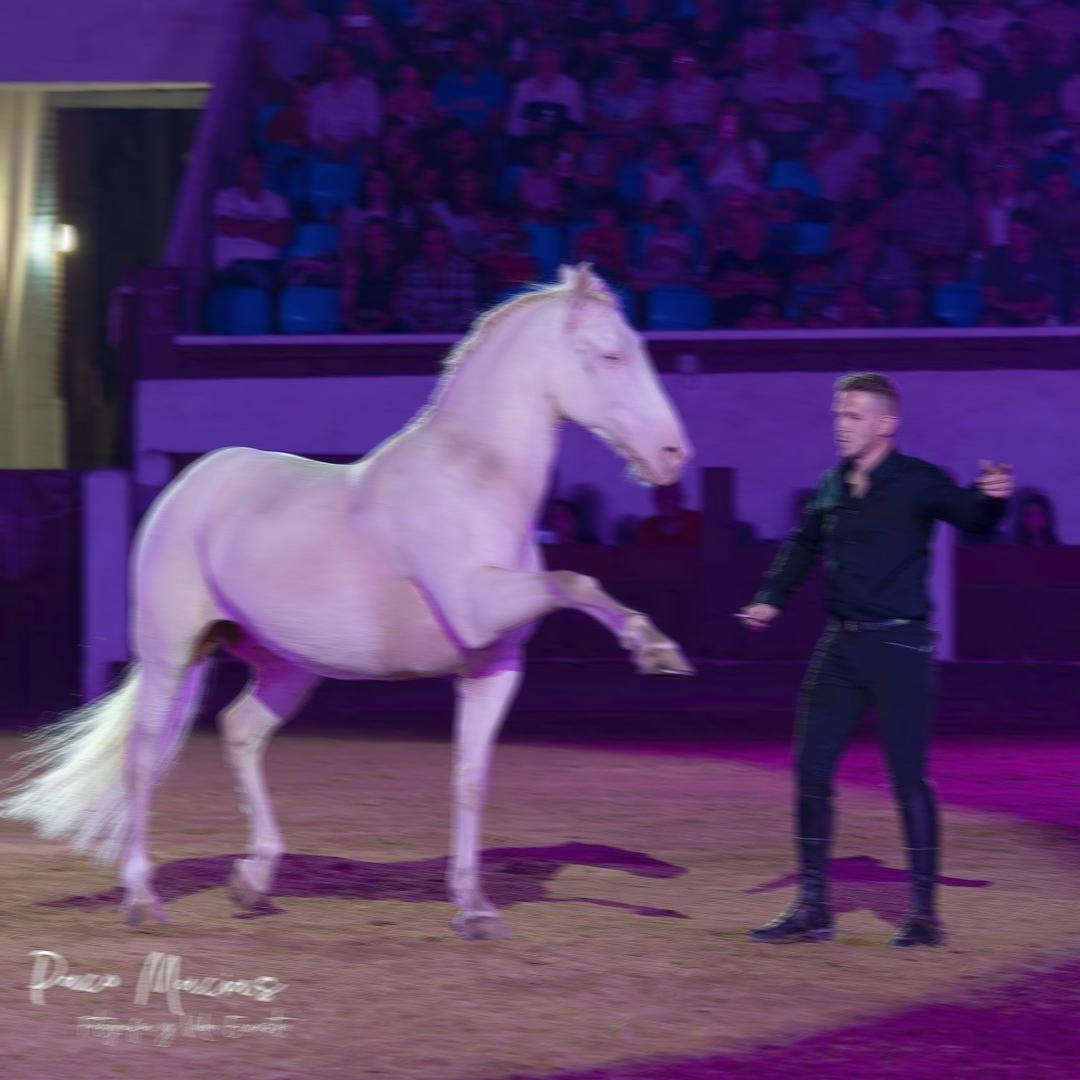horse: (0, 258, 696, 942)
